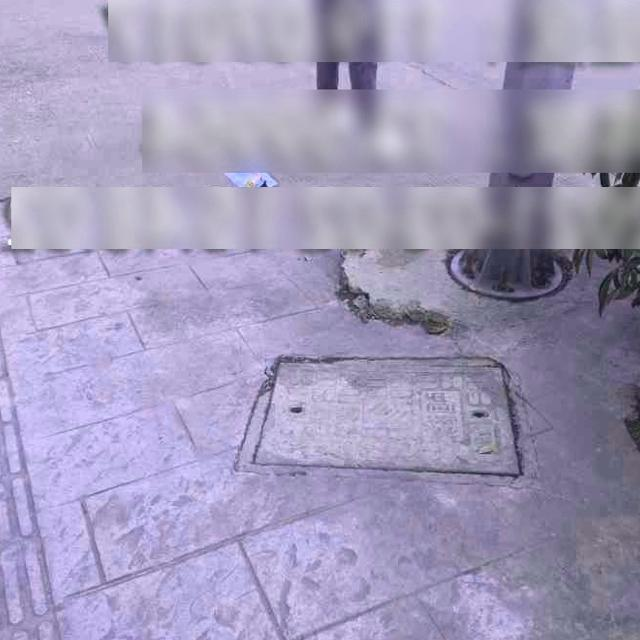good: (232, 352, 534, 486)
